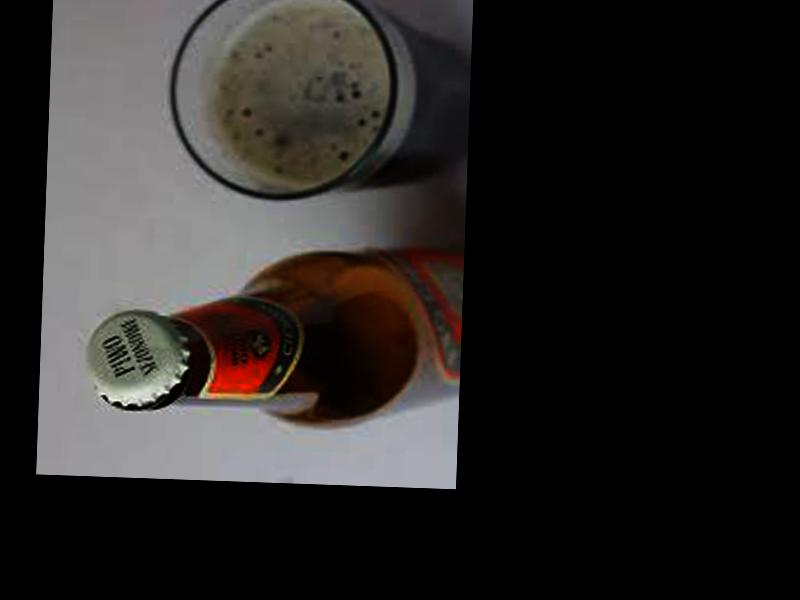Beer: (84, 233, 464, 431)
